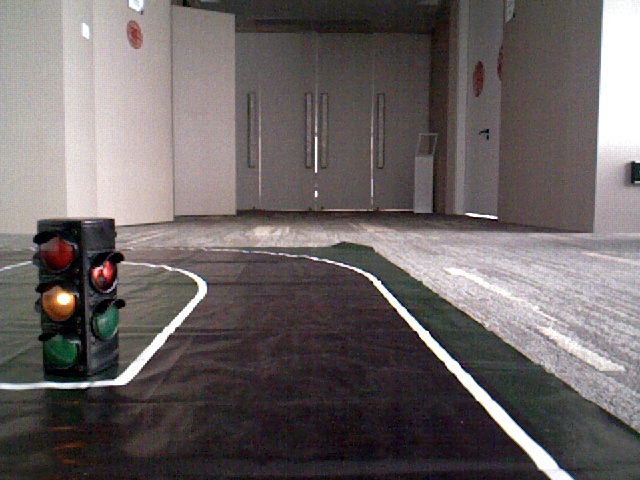yellow: (41, 222, 89, 373)
